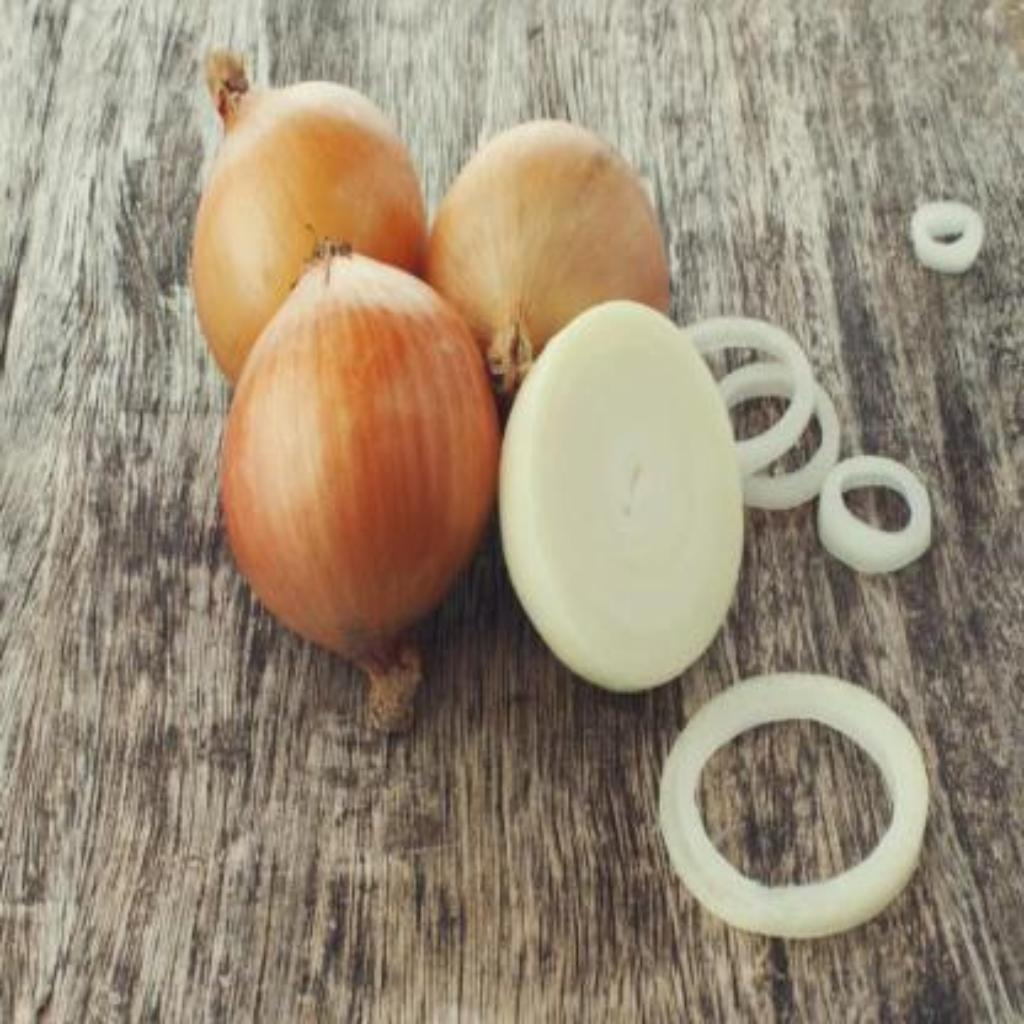Onion: (222, 254, 500, 735), (192, 49, 428, 378), (431, 118, 672, 393)
